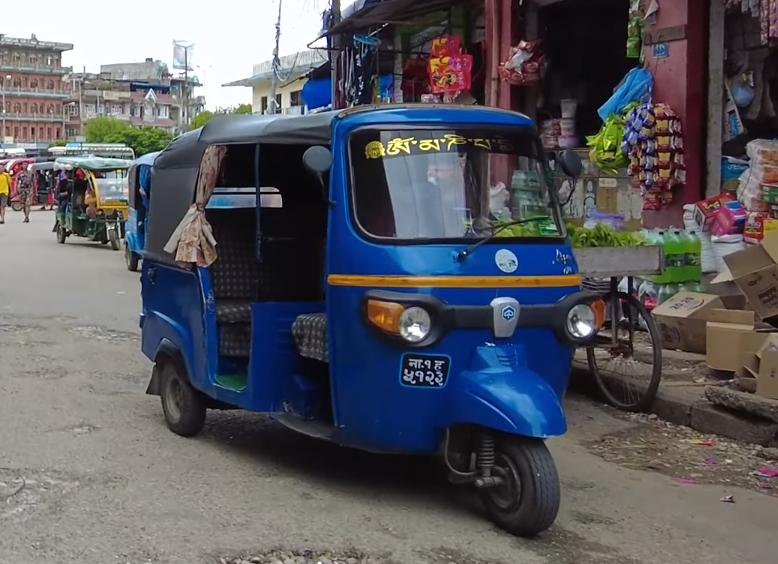auto_rickshaw: (140, 95, 608, 536), (124, 145, 161, 271)
e-rickshaw: (48, 154, 125, 252)
